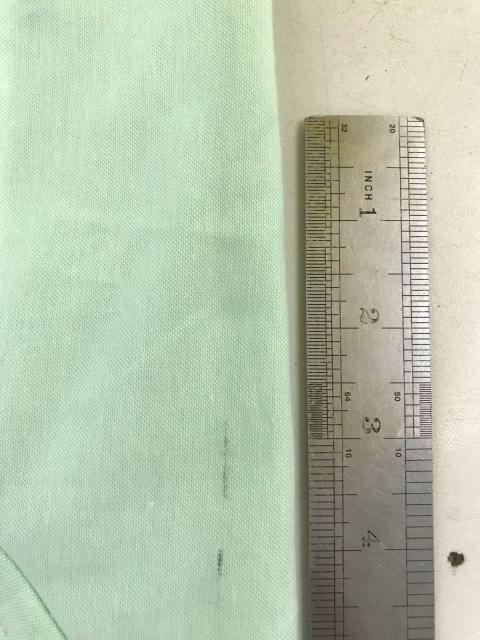Dirty_mark: (217, 411, 235, 504), (212, 545, 227, 606)
